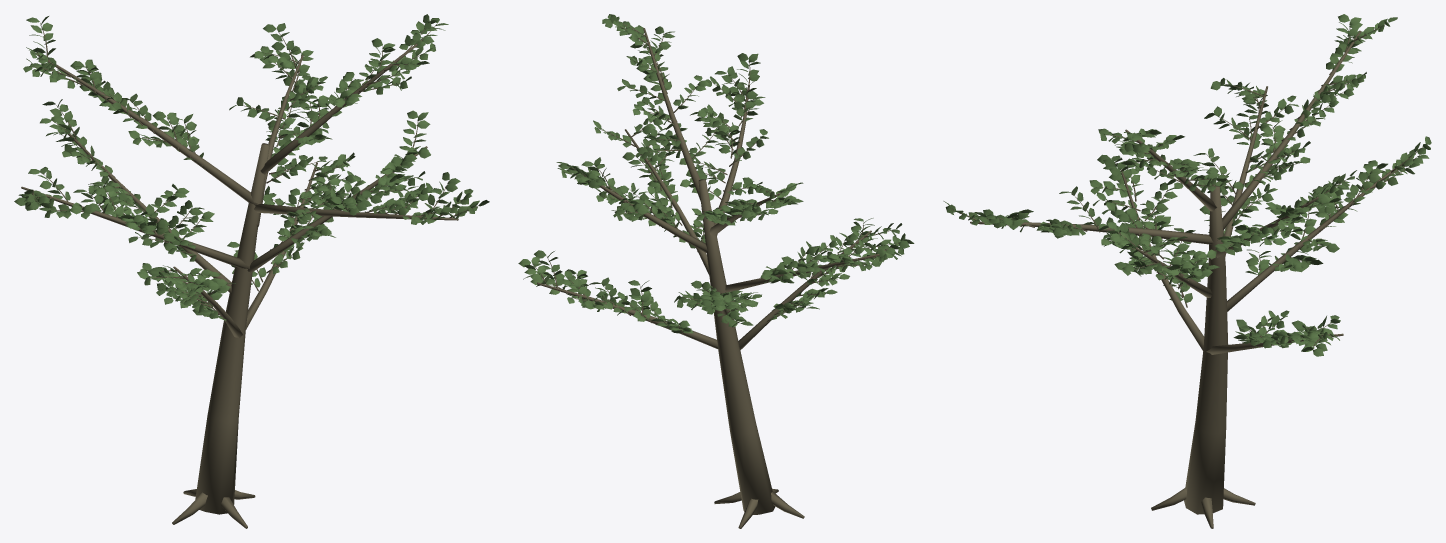
The model's file is CheneVert_0_LOD0.fbx.
3 renders of one model, left to right at view 1: azimuth 30°, elevation 25°; view 2: azimuth 150°, elevation 25°; view 3: azimuth 270°, elevation 25°, orthographic. The views are drawn at different scales.
Parts seen in each view (by area): view 1: CheneVert_0_LOD0; view 2: CheneVert_0_LOD0; view 3: CheneVert_0_LOD0.
Boxes of the visible parts, x1=… form: CheneVert_0_LOD0: x1=14, y1=14, x2=489, y2=528; CheneVert_0_LOD0: x1=518, y1=14, x2=914, y2=528; CheneVert_0_LOD0: x1=943, y1=14, x2=1431, y2=528.
Bounding box in the file's own units: 496 × 587 × 552.
